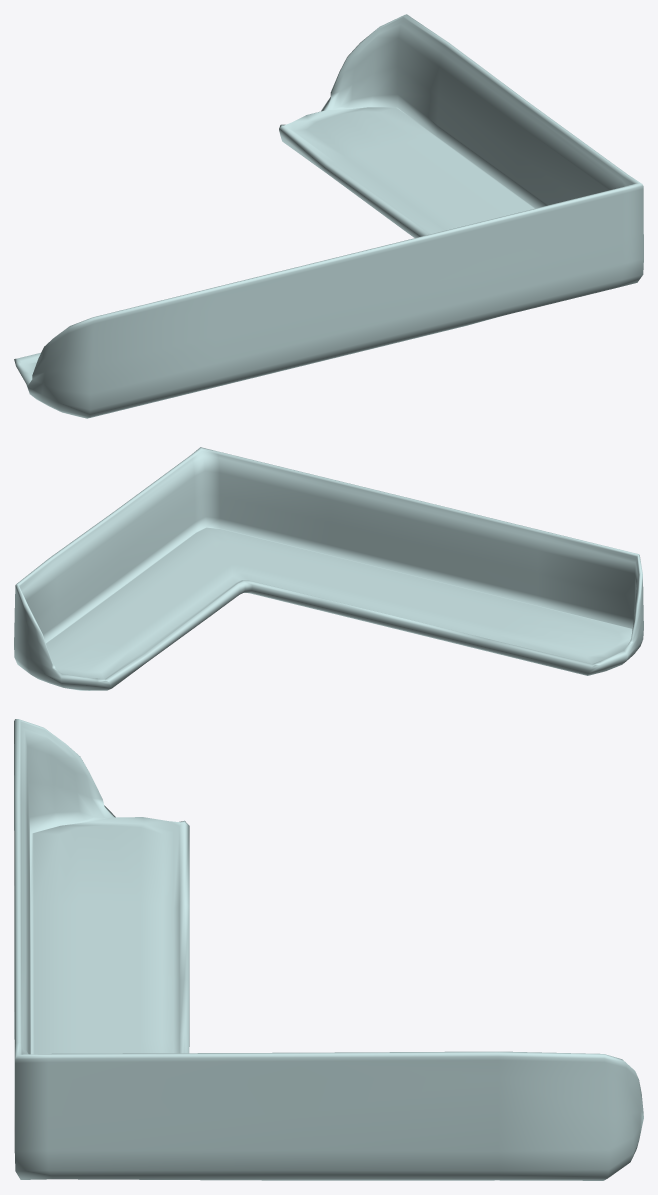
Rendered from couch-left-low.fbx.
3 renders of one model, top to bottom at view 1: azimuth 30°, elevation 25°; view 2: azimuth 150°, elevation 25°; view 3: azimuth 270°, elevation 25°, orthographic. The views are drawn at different scales.
Visible parts, largest first — view 1: couch LOD1; view 2: couch LOD1; view 3: couch LOD1.
Part boxes in pixels (x1=…): couch LOD1: x1=14, y1=14, x2=643, y2=418; couch LOD1: x1=14, y1=447, x2=643, y2=690; couch LOD1: x1=14, y1=719, x2=643, y2=1180.
Size of the model in its own units: 448 by 85.37 by 336.
